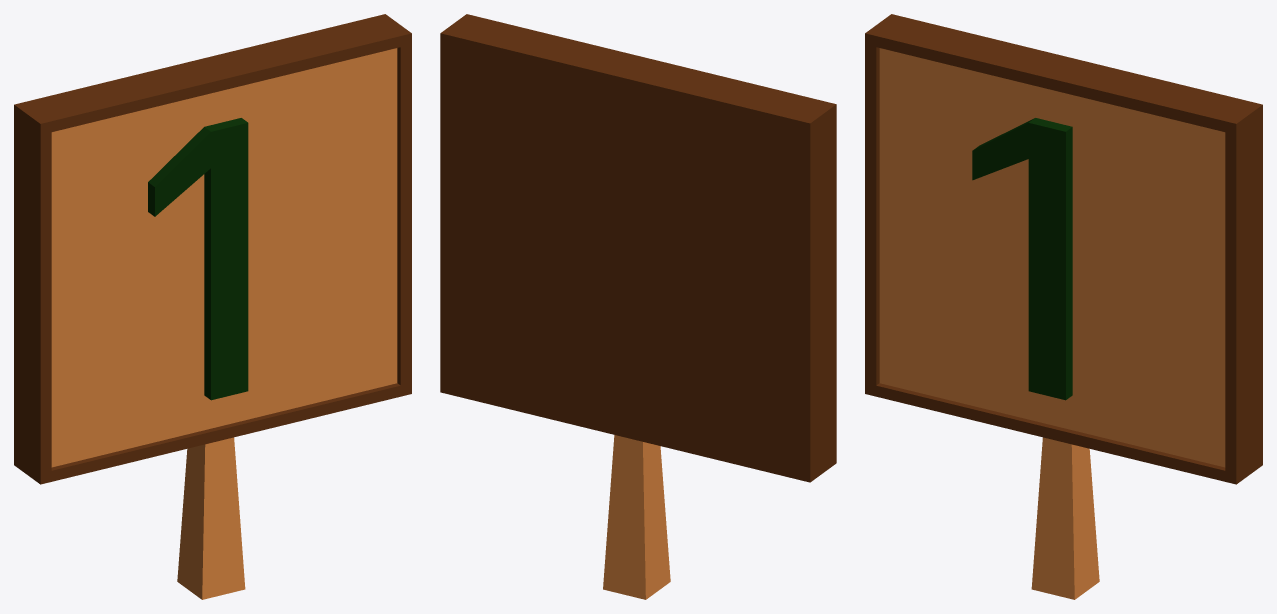
File: Sign_1.fbx
The picture shows the model from 3 angles, left to right: view 1: azimuth 30°, elevation 25°; view 2: azimuth 150°, elevation 25°; view 3: azimuth 330°, elevation 25°; orthographic projection.
Parts seen in each view (by area): view 1: Cube; view 2: Cube; view 3: Cube.
Part boxes in pixels (x1,y1,x2,y2): Cube: [14, 14, 411, 599]; Cube: [440, 14, 836, 599]; Cube: [865, 14, 1262, 599].
Bounding box in the file's own units: 171 × 228 × 24.7.
